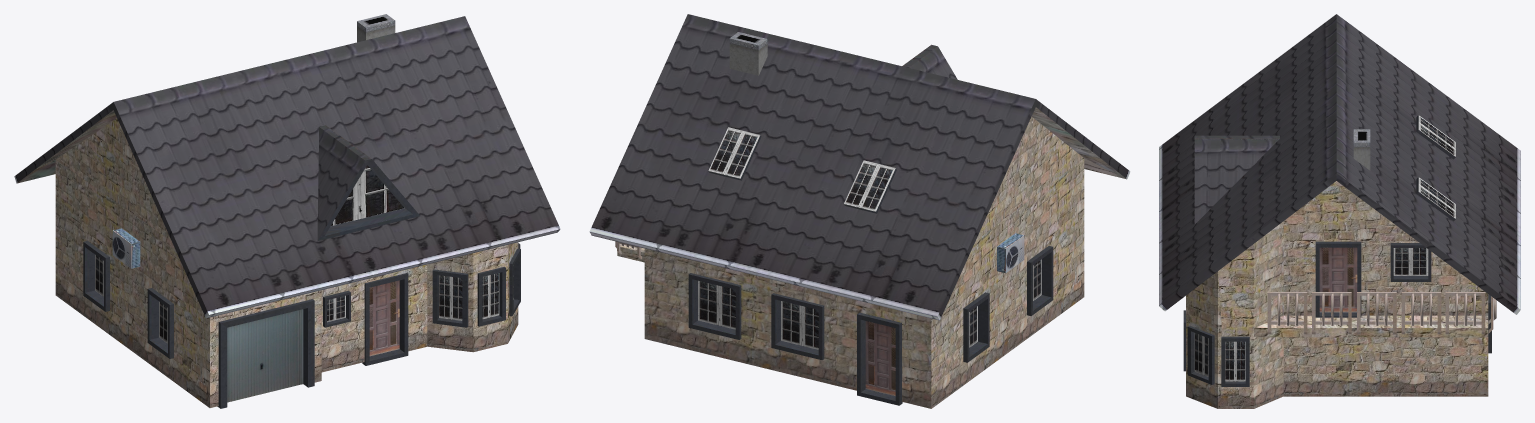
Rendered from h_house2.glb.
3 views of the same model, side by side, from view 1: azimuth 30°, elevation 25°; view 2: azimuth 150°, elevation 25°; view 3: azimuth 270°, elevation 25° (orthographic). The views are drawn at different scales.
Parts seen in each view (by area): view 1: house2, garage_door2, door3, window_vertical2, window_vertical, window9, window8, ac2, window7, chimney2, window_vertical3; view 2: house2, door4, window12, window11, window_roof, window_roof2, window9, window8, chimney2, ac2; view 3: house2, door5, window13, window_vertical4, window_vertical3, railing, railing3, railing4, railing5, railing2, window_roof, window_roof2 (+1 smaller).
Part boxes in pixels (box(x1,y1,x2,y2)): house2: box(14, 16, 560, 407); garage_door2: box(217, 299, 314, 408); door3: box(362, 273, 408, 365); window_vertical2: box(432, 269, 468, 327); window_vertical: box(477, 266, 505, 326); window9: box(83, 241, 109, 311); window8: box(147, 288, 173, 358); ac2: box(112, 228, 140, 268); window7: box(323, 290, 350, 327); chimney2: box(357, 14, 395, 42); window_vertical3: box(509, 248, 520, 316); house2: box(589, 14, 1130, 408); door4: box(857, 312, 902, 405); window12: box(688, 273, 741, 339); window11: box(771, 293, 824, 360); window_roof: box(844, 160, 896, 213); window_roof2: box(708, 127, 761, 180); window9: box(963, 292, 989, 362); window8: box(1027, 246, 1053, 315); chimney2: box(729, 32, 767, 75); ac2: box(997, 233, 1024, 273); house2: box(1159, 14, 1520, 408); door5: box(1315, 241, 1361, 317); window13: box(1390, 243, 1431, 281); window_vertical4: box(1221, 336, 1249, 386); window_vertical3: box(1187, 325, 1214, 384); railing: box(1267, 292, 1307, 334); railing3: box(1357, 292, 1396, 334); railing4: box(1401, 292, 1441, 334); railing5: box(1445, 292, 1485, 334); railing2: box(1312, 292, 1351, 334); window_roof: box(1416, 115, 1455, 159); window_roof2: box(1416, 177, 1455, 221).
Size of the model in its own units: 2.95 by 2.13 by 2.83.
1 material, 1 textured.
